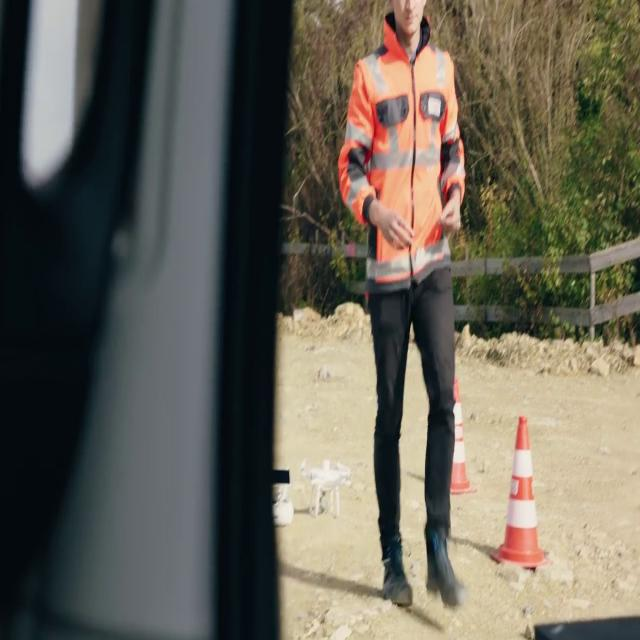drone: (300, 457, 354, 517)
